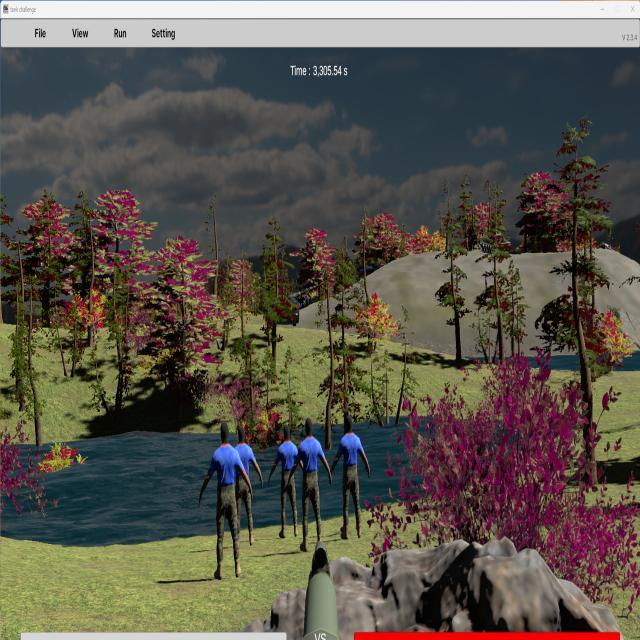Human: (199, 420, 251, 580), (288, 419, 332, 551), (330, 412, 370, 541), (225, 422, 265, 544), (268, 424, 307, 540)
